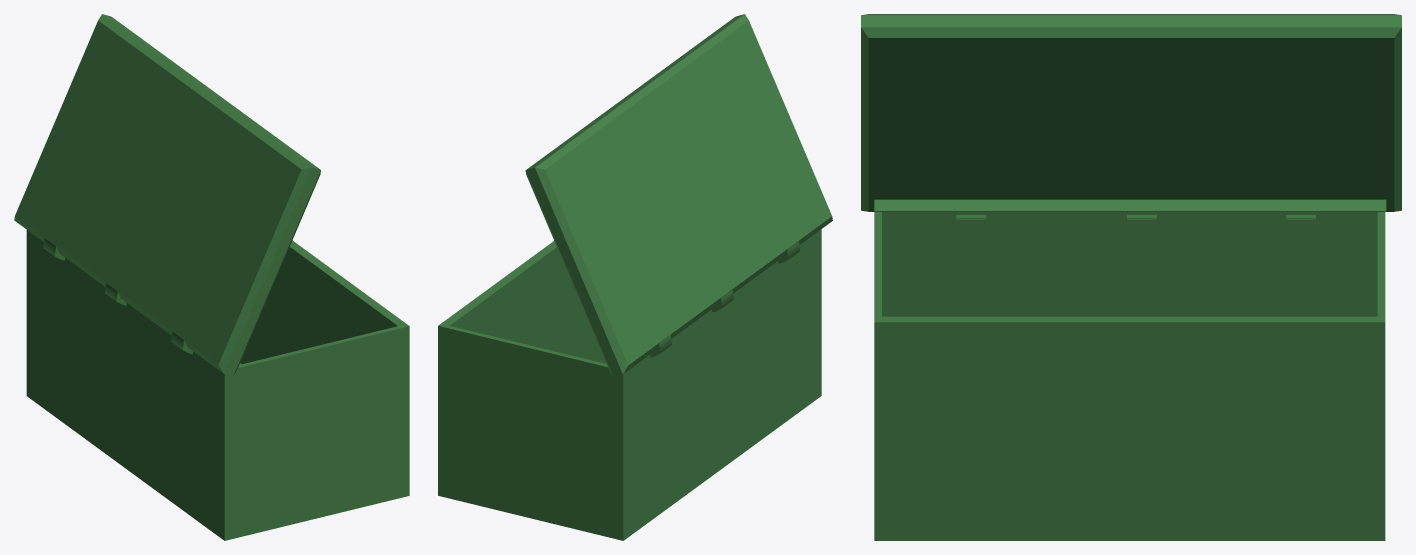
The model's file is chest crate.fbx.
3 renders of one model, left to right at view 1: azimuth 30°, elevation 25°; view 2: azimuth 150°, elevation 25°; view 3: azimuth 270°, elevation 25°, orthographic. The views are drawn at different scales.
Parts seen in each view (by area): view 1: pCube74, polySurface549; view 2: pCube74, polySurface549; view 3: pCube74, polySurface549.
Boxes of the visible parts, <box> form: pCube74: <box>26,230,409,540</box>; polySurface549: <box>14,14,320,376</box>; pCube74: <box>438,229,821,540</box>; polySurface549: <box>525,14,832,376</box>; pCube74: <box>874,212,1385,540</box>; polySurface549: <box>861,14,1401,219</box>.
Size of the model in its own units: 2.23 by 3.9 by 4.15.
